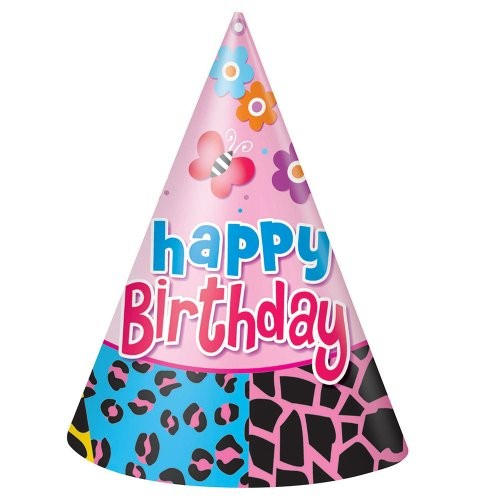cone: (67, 12, 409, 488)
